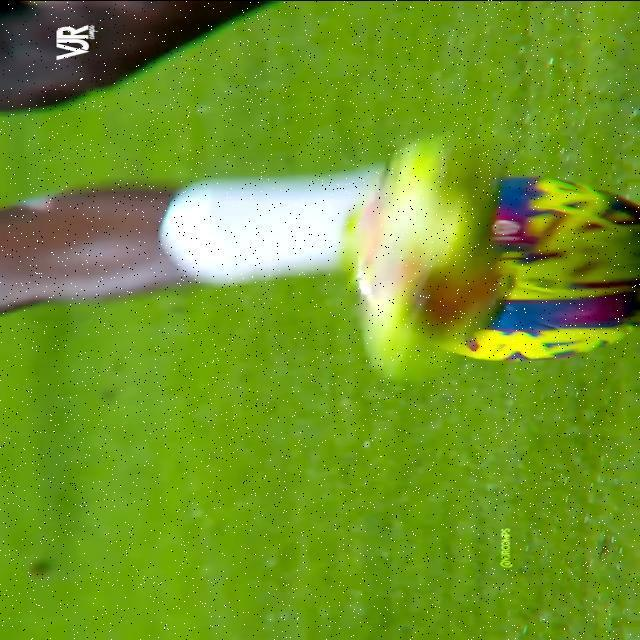ball: (346, 151, 640, 388)
player: (0, 0, 428, 313)
